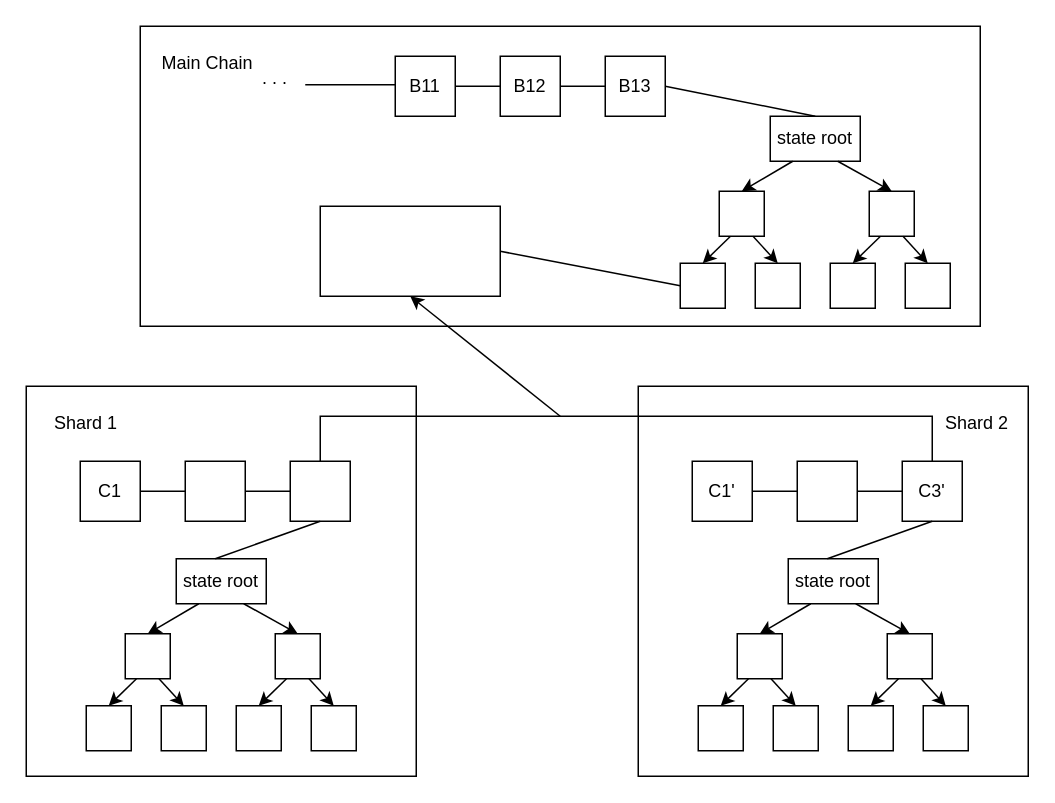
The diagram is 1055 pixels wide and 803 high, and some of its shapes have lost their labels. Here are the shapes that lost their labels. From the top down, the box of each, then its label:
(319, 205, 500, 296): Validator Manager Contract
(184, 460, 245, 521): C2
(289, 460, 350, 521): C3
(796, 460, 857, 521): C2'
